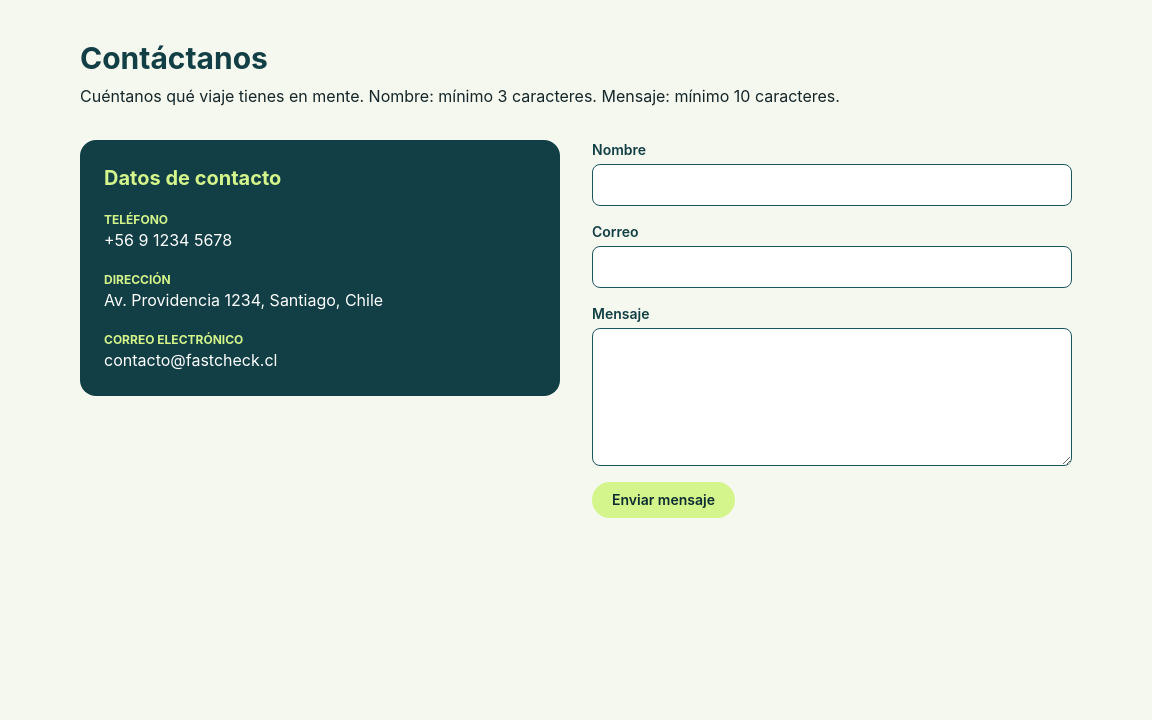
Test case: Formulario de contacto › no envía y muestra aviso si faltan caracteres
Type "Al" into the field labelled "Nombre" at point(832, 185), box [592,164,1072,206]
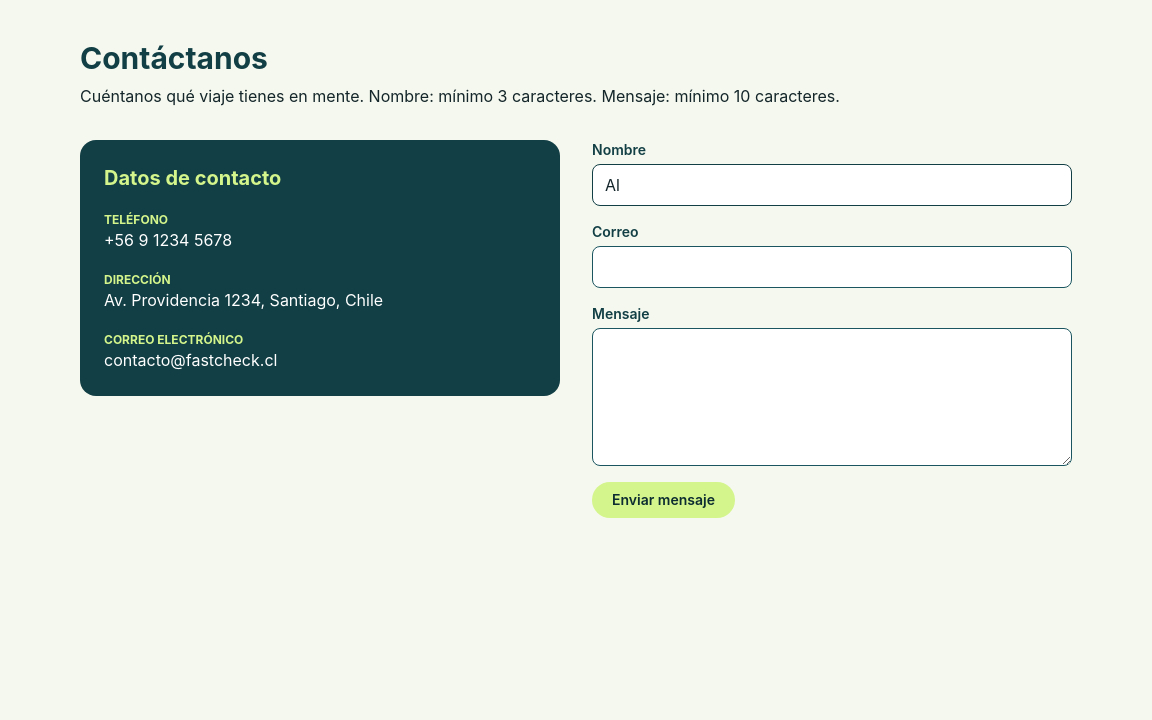
Type "Hola" into the text box labelled "Mensaje" at point(832, 397), box [592,328,1072,466]
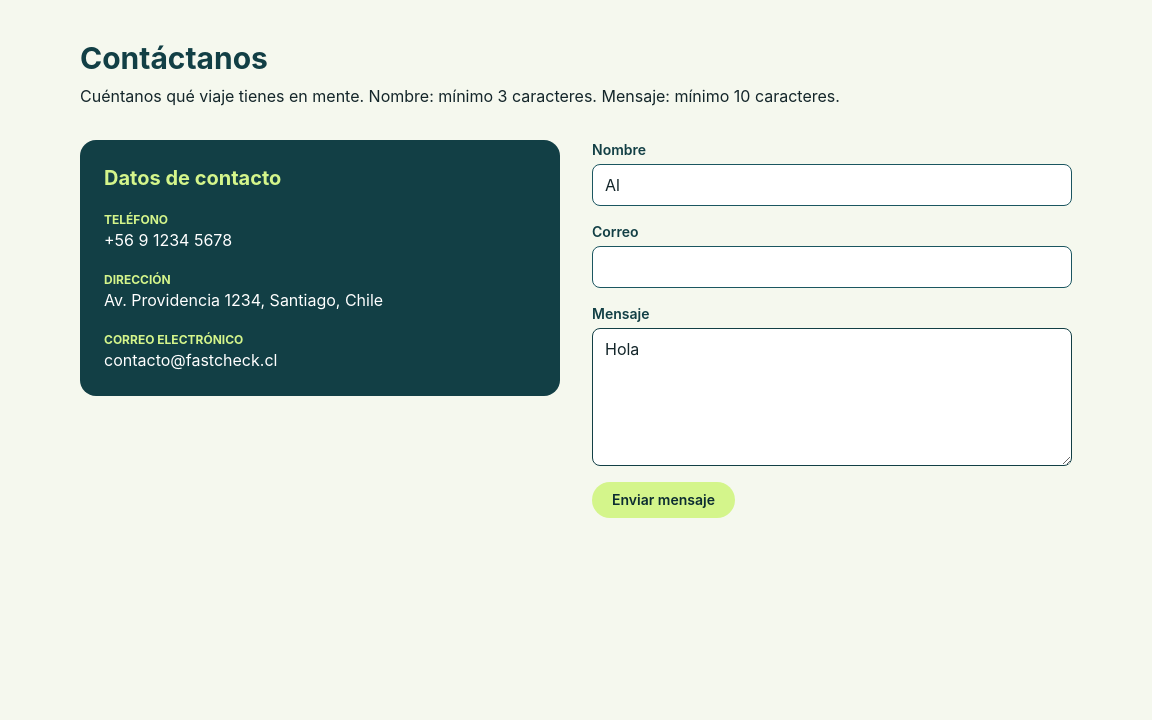
Click the button "Enviar mensaje" at point(663, 500), box [592,482,735,518]
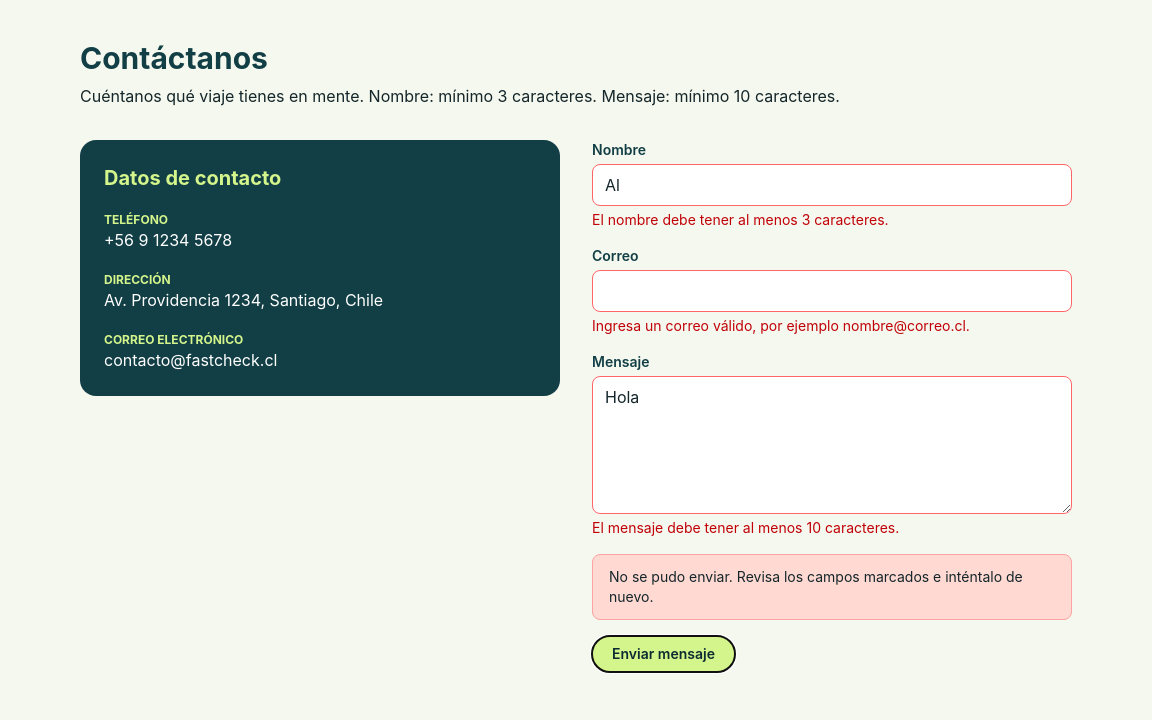
Now the text "No se pudo enviar. Revisa los campos marcados e inténtalo de nuevo." is shown, box [592,554,1072,620]
